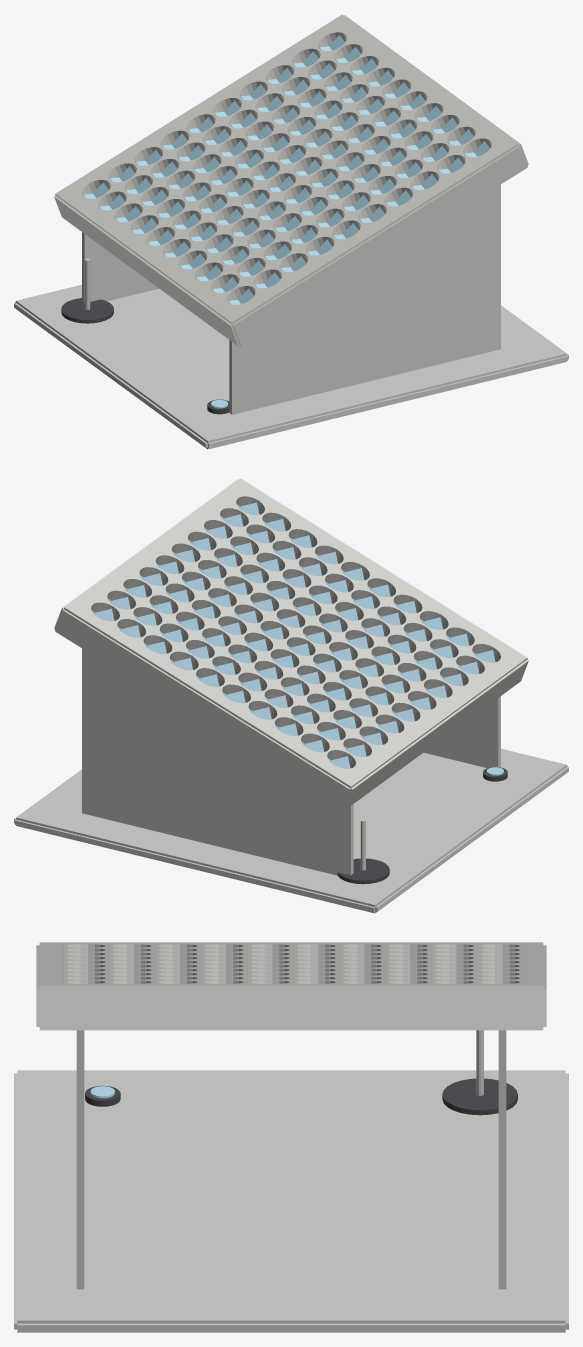
The model's file is retroreflector.glb.
3 renders of one model, top to bottom at view 1: azimuth 30°, elevation 25°; view 2: azimuth 150°, elevation 25°; view 3: azimuth 270°, elevation 25°, orthographic. The views are drawn at different scales.
Parts seen in each view (by area): view 1: LaserRetroreflectorMesh, LaserRetroreflectorMesh_1, LaserRetroreflectorMesh_2; view 2: LaserRetroreflectorMesh, LaserRetroreflectorMesh_1, LaserRetroreflectorMesh_2; view 3: LaserRetroreflectorMesh, LaserRetroreflectorMesh_2.
Part boxes in pixels (x1=…): LaserRetroreflectorMesh: x1=14, y1=14, x2=568, y2=449; LaserRetroreflectorMesh_1: x1=84, y1=35, x2=489, y2=408; LaserRetroreflectorMesh_2: x1=61, y1=298, x2=229, y2=414; LaserRetroreflectorMesh: x1=14, y1=478, x2=568, y2=913; LaserRetroreflectorMesh_1: x1=91, y1=502, x2=503, y2=775; LaserRetroreflectorMesh_2: x1=337, y1=767, x2=507, y2=884; LaserRetroreflectorMesh: x1=14, y1=942, x2=568, y2=1332; LaserRetroreflectorMesh_2: x1=85, y1=1078, x2=517, y2=1115.
Size of the model in its own units: 0.54 by 0.3164 by 0.5.
